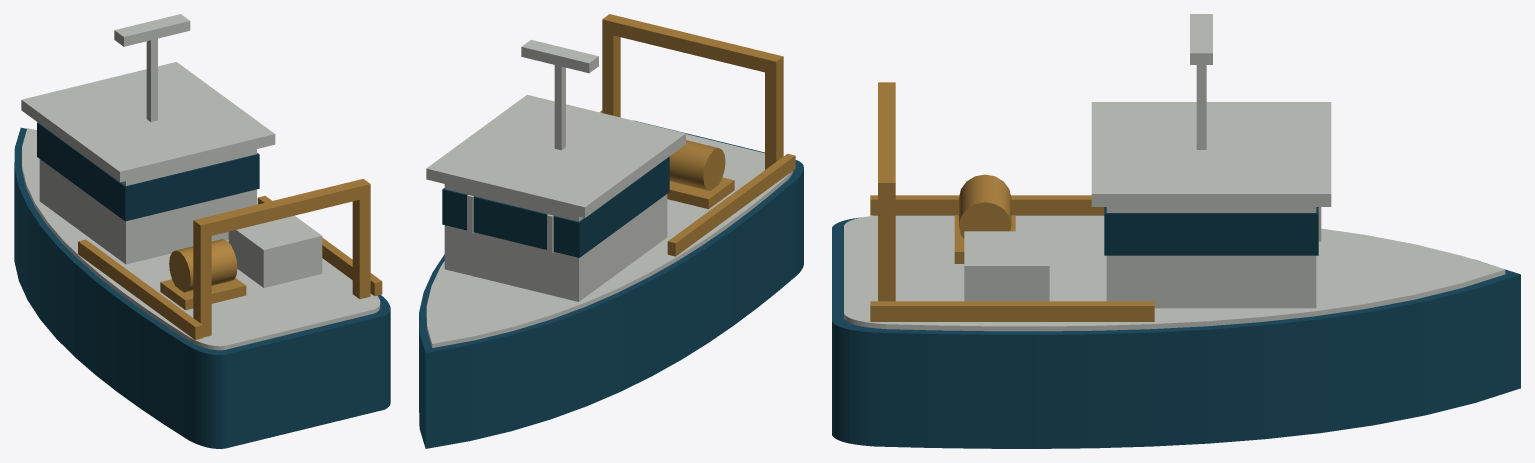
File: research-vessel-balanced.v2.glb
3 views of the same model, side by side, from view 1: azimuth 30°, elevation 25°; view 2: azimuth 150°, elevation 25°; view 3: azimuth 270°, elevation 25° (orthographic). The views are drawn at different scales.
Parts seen in each view (by area): view 1: deck, hull; view 2: deck, hull; view 3: deck, hull.
Boxes of the visible parts, x1,y1,x2,y2 form: deck: (21,14,382,350); hull: (14,127,390,448); deck: (426,14,795,347); hull: (419,120,803,448); deck: (844,14,1505,331); hull: (832,217,1520,448).
Size of the model in its own units: 2.62 by 3.58 by 6.3.
